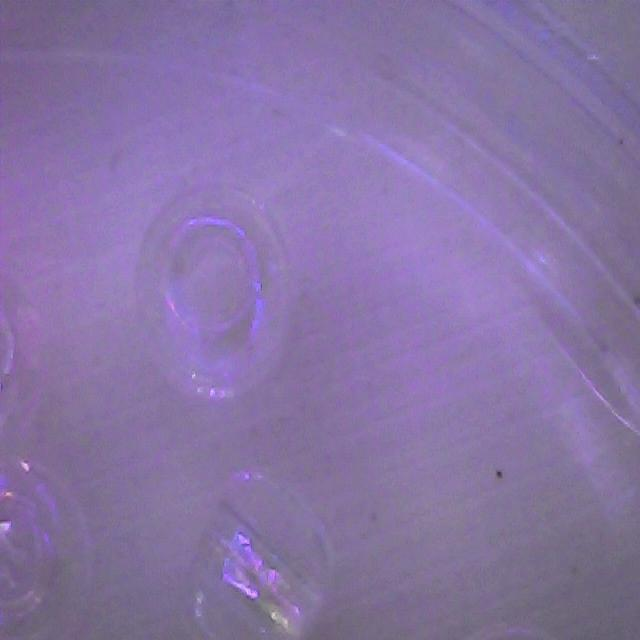beads: (118, 173, 310, 412), (194, 473, 333, 640), (0, 460, 88, 638)
